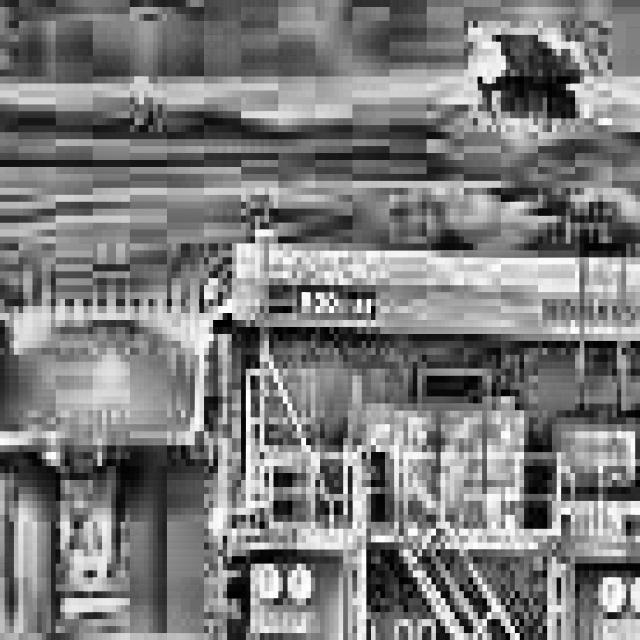dump_truck: (167, 188, 640, 640), (0, 201, 227, 640), (450, 0, 589, 146)
